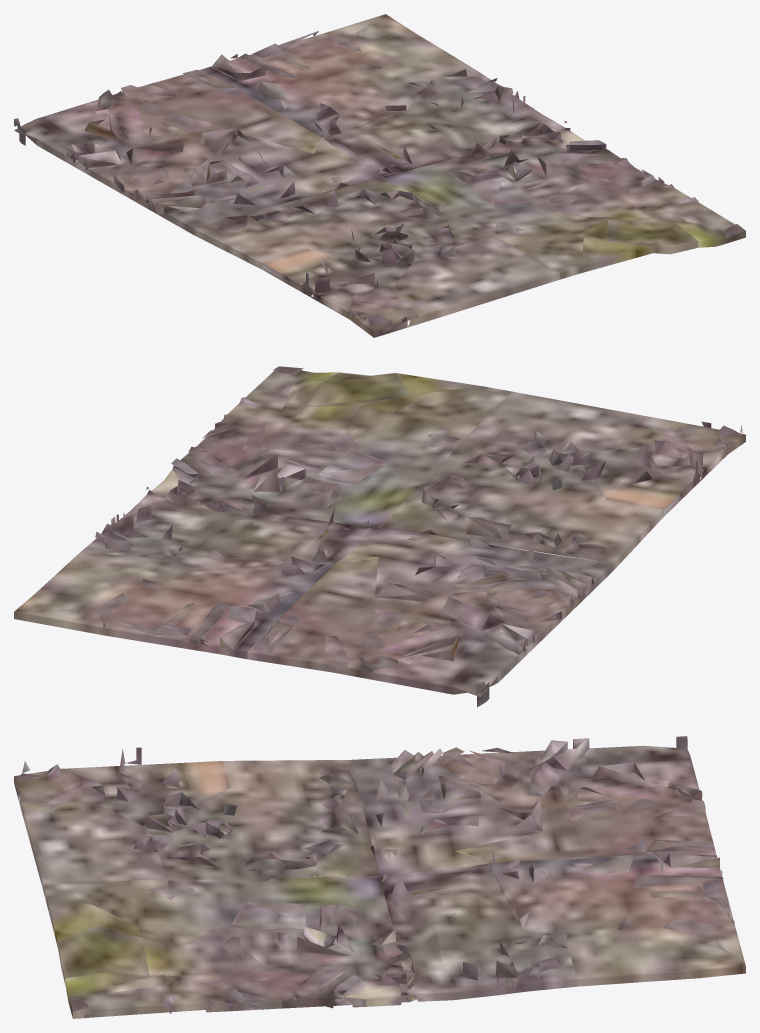
3 renders of one model, top to bottom at view 1: azimuth 30°, elevation 25°; view 2: azimuth 150°, elevation 25°; view 3: azimuth 270°, elevation 25°, orthographic. The views are drawn at different scales.
Parts seen in each view (by area): view 1: Mesh_0; view 2: Mesh_0; view 3: Mesh_0.
Part boxes in pixels (<box>): Mesh_0: <box>14,14,745,337</box>; Mesh_0: <box>14,366,745,707</box>; Mesh_0: <box>14,736,745,1018</box>.
Size of the model in its own units: 1066 by 99.16 by 1318.
1 material, 1 textured.
